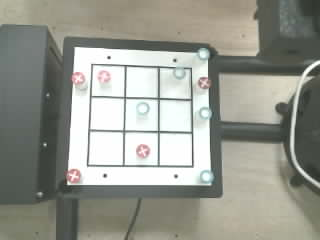blue circle: (200, 170, 213, 183), (197, 48, 210, 60), (136, 102, 149, 114), (173, 67, 185, 79), (199, 107, 211, 119)
board: (67, 46, 213, 186)
cells: (89, 132, 122, 164), (125, 133, 157, 165), (92, 65, 124, 96), (91, 98, 123, 129), (160, 134, 191, 165), (160, 100, 191, 131), (126, 99, 157, 130), (126, 67, 157, 97), (160, 68, 191, 98)
grid: (87, 64, 193, 167)
red cross: (66, 169, 81, 184), (136, 144, 149, 157), (97, 70, 110, 83), (71, 72, 84, 84), (198, 77, 211, 88)
